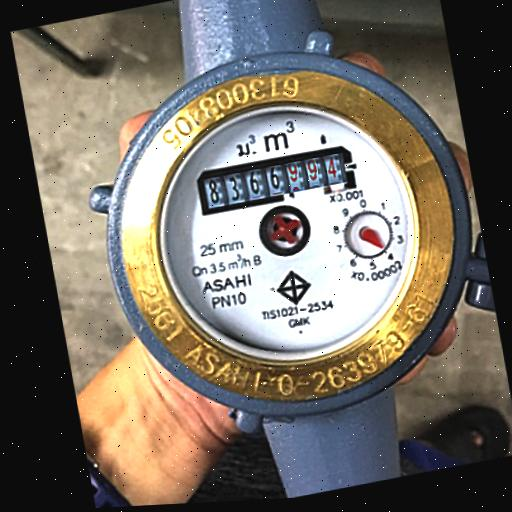3: (223, 173, 244, 204)
4: (323, 154, 343, 185)
6: (265, 164, 284, 197), (244, 168, 264, 199)
8: (203, 176, 224, 209)
9: (303, 157, 323, 190), (285, 162, 305, 193)
border_water_meter_number: (193, 141, 358, 218)
